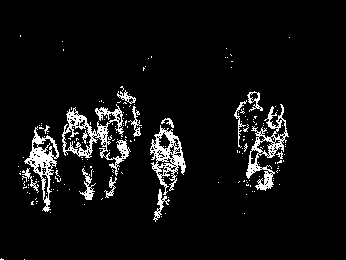person: (242, 102, 289, 192), (149, 116, 188, 224), (91, 100, 130, 201), (60, 105, 98, 203), (24, 124, 57, 209), (232, 88, 262, 153), (114, 82, 144, 140)
